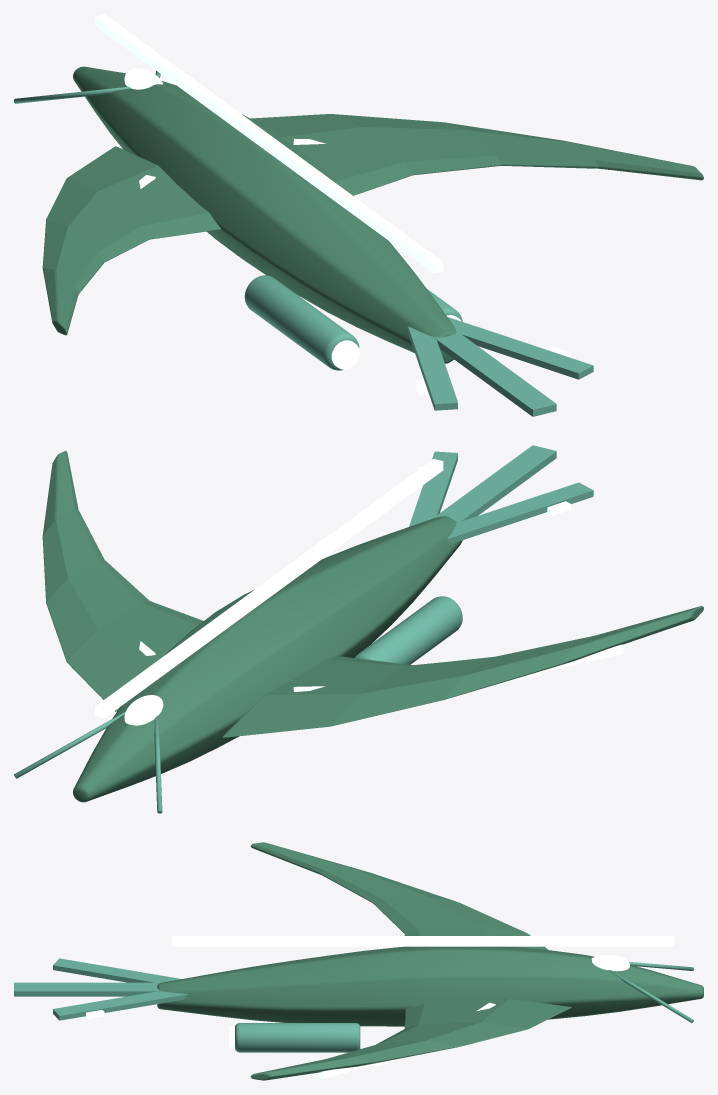
File: kareth-nara.glb
3 views of the same model, one above another, from view 1: azimuth 30°, elevation 25°; view 2: azimuth 150°, elevation 25°; view 3: azimuth 270°, elevation 25° (orthographic). The views are drawn at different scales.
Visible parts, largest first — view 1: hull, wing.001, wing, Cube.006, Cylinder.002, Cube.007, Cube.009, Cube.008, Cylinder.003, Cylinder; view 2: hull, wing.001, wing, Cube.006, Cylinder.002, Cube.007, Cube.008, Cube.009, Sphere, Cylinder.001; view 3: hull, wing.001, wing, Cube.006, Cylinder.004, Cube.007, Cube.009, Cube.008, Sphere, Cylinder.001.
Part boxes in pixels (<box>): hull: <box>73,66,456,363</box>; wing.001: <box>250,114,703,195</box>; wing: <box>42,146,220,335</box>; Cube.006: <box>95,14,443,273</box>; Cylinder.002: <box>244,275,359,370</box>; Cube.007: <box>432,330,556,416</box>; Cube.009: <box>447,317,593,379</box>; Cube.008: <box>408,326,457,410</box>; Cylinder.003: <box>331,340,359,369</box>; Cylinder: <box>14,86,130,103</box>; hull: <box>73,516,462,802</box>; wing.001: <box>42,450,203,711</box>; wing: <box>222,606,703,737</box>; Cube.006: <box>95,459,443,717</box>; Cylinder.002: <box>355,596,462,664</box>; Cube.007: <box>433,445,556,524</box>; Cube.008: <box>447,482,593,543</box>; Cube.009: <box>409,451,457,526</box>; Sphere: <box>124,695,163,725</box>; Cylinder.001: <box>14,711,125,778</box>; hull: <box>157,946,703,1026</box>; wing.001: <box>250,998,571,1080</box>; wing: <box>250,842,548,949</box>; Cube.006: <box>172,936,674,946</box>; Cylinder.004: <box>235,1023,360,1052</box>; Cube.007: <box>14,982,163,996</box>; Cube.009: <box>53,991,187,1020</box>; Cube.008: <box>53,958,181,982</box>; Sphere: <box>591,954,629,971</box>; Cylinder.001: <box>608,970,693,1022</box>.
Size of the model in its own units: 3.7 by 0.706 by 4.67.
